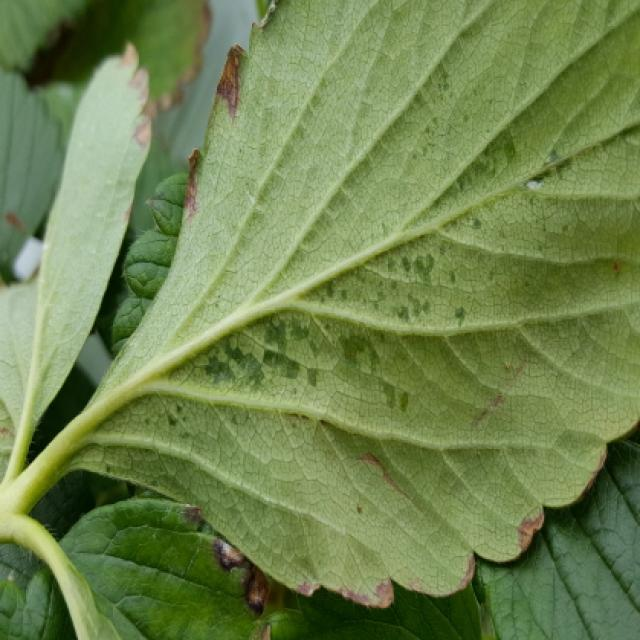Angular Leafspot: (66, 0, 640, 610)
